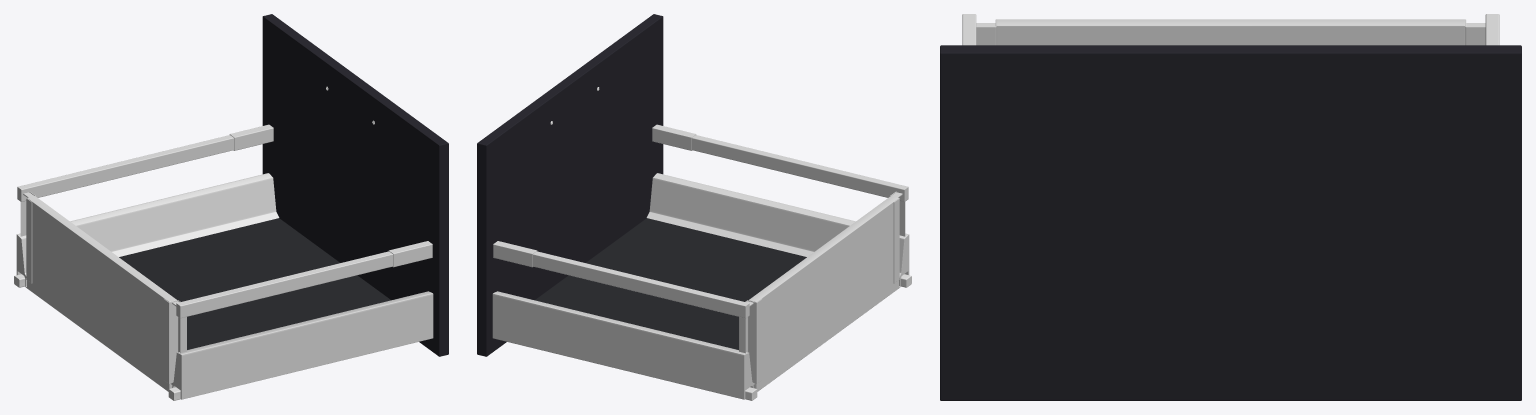
The model's file is Kitchen01Drawer02.fbx.
The picture shows the model from 3 angles, left to right: view 1: azimuth 30°, elevation 25°; view 2: azimuth 150°, elevation 25°; view 3: azimuth 270°, elevation 25°; orthographic projection. The views are drawn at different scales.
Parts seen in each view (by area): view 1: Kitchen01Drawer02; view 2: Kitchen01Drawer02; view 3: Kitchen01Drawer02.
Part boxes in pixels (x1,y1,x2,y2): Kitchen01Drawer02: [14, 14, 448, 400]; Kitchen01Drawer02: [477, 14, 911, 400]; Kitchen01Drawer02: [940, 14, 1521, 400].
Bounding box in the file's own units: 51.99 × 59.69 × 39.43.
Materials: 4 (1 with a texture image).
